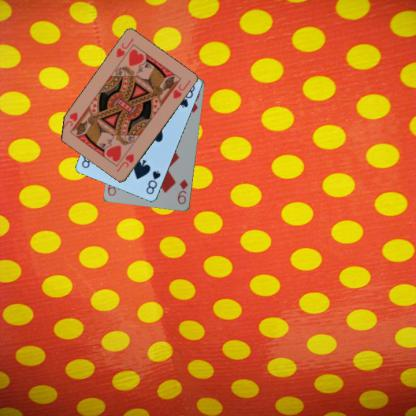8s: (144, 168, 162, 196)
9d: (175, 176, 190, 206)
Jh: (113, 36, 134, 59), (114, 152, 135, 174)
